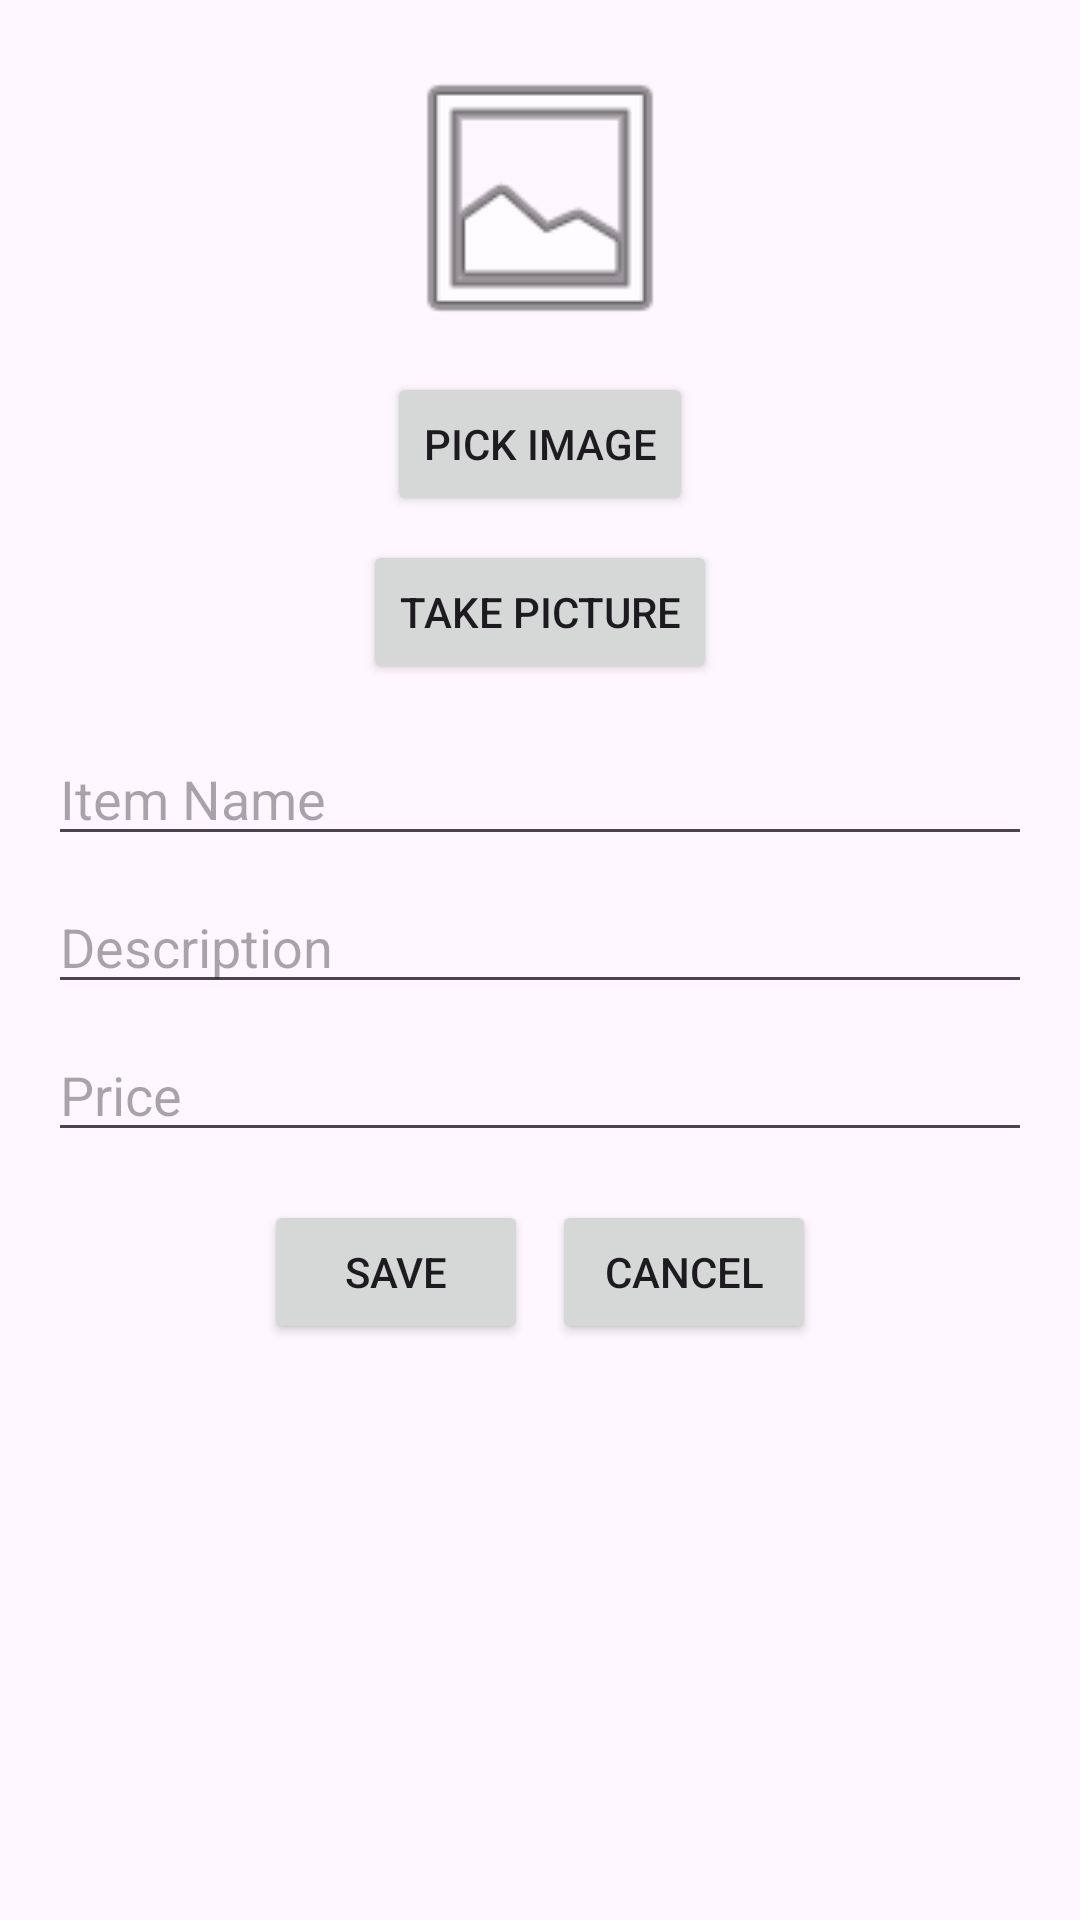

Icon click points for this 1080*1920 phone screenshot, format point (x, y):
gallery: point (540, 198)
